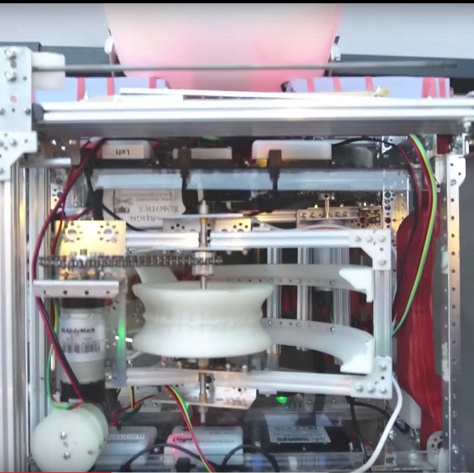robot: (2, 40, 474, 470)
